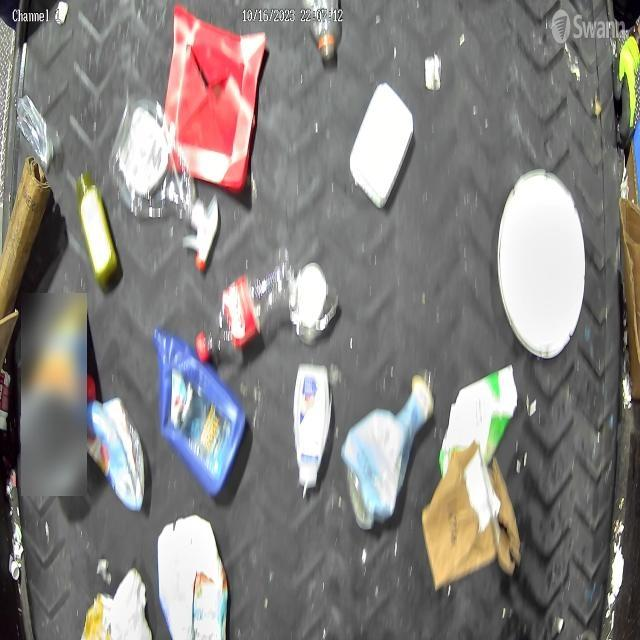non_white_jug: (152, 329, 248, 498)
plastic_bottle: (114, 98, 202, 225), (206, 247, 296, 358), (16, 96, 54, 170)
